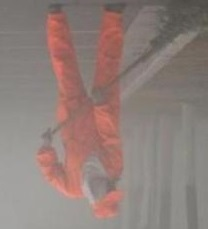person: (37, 3, 130, 220)
